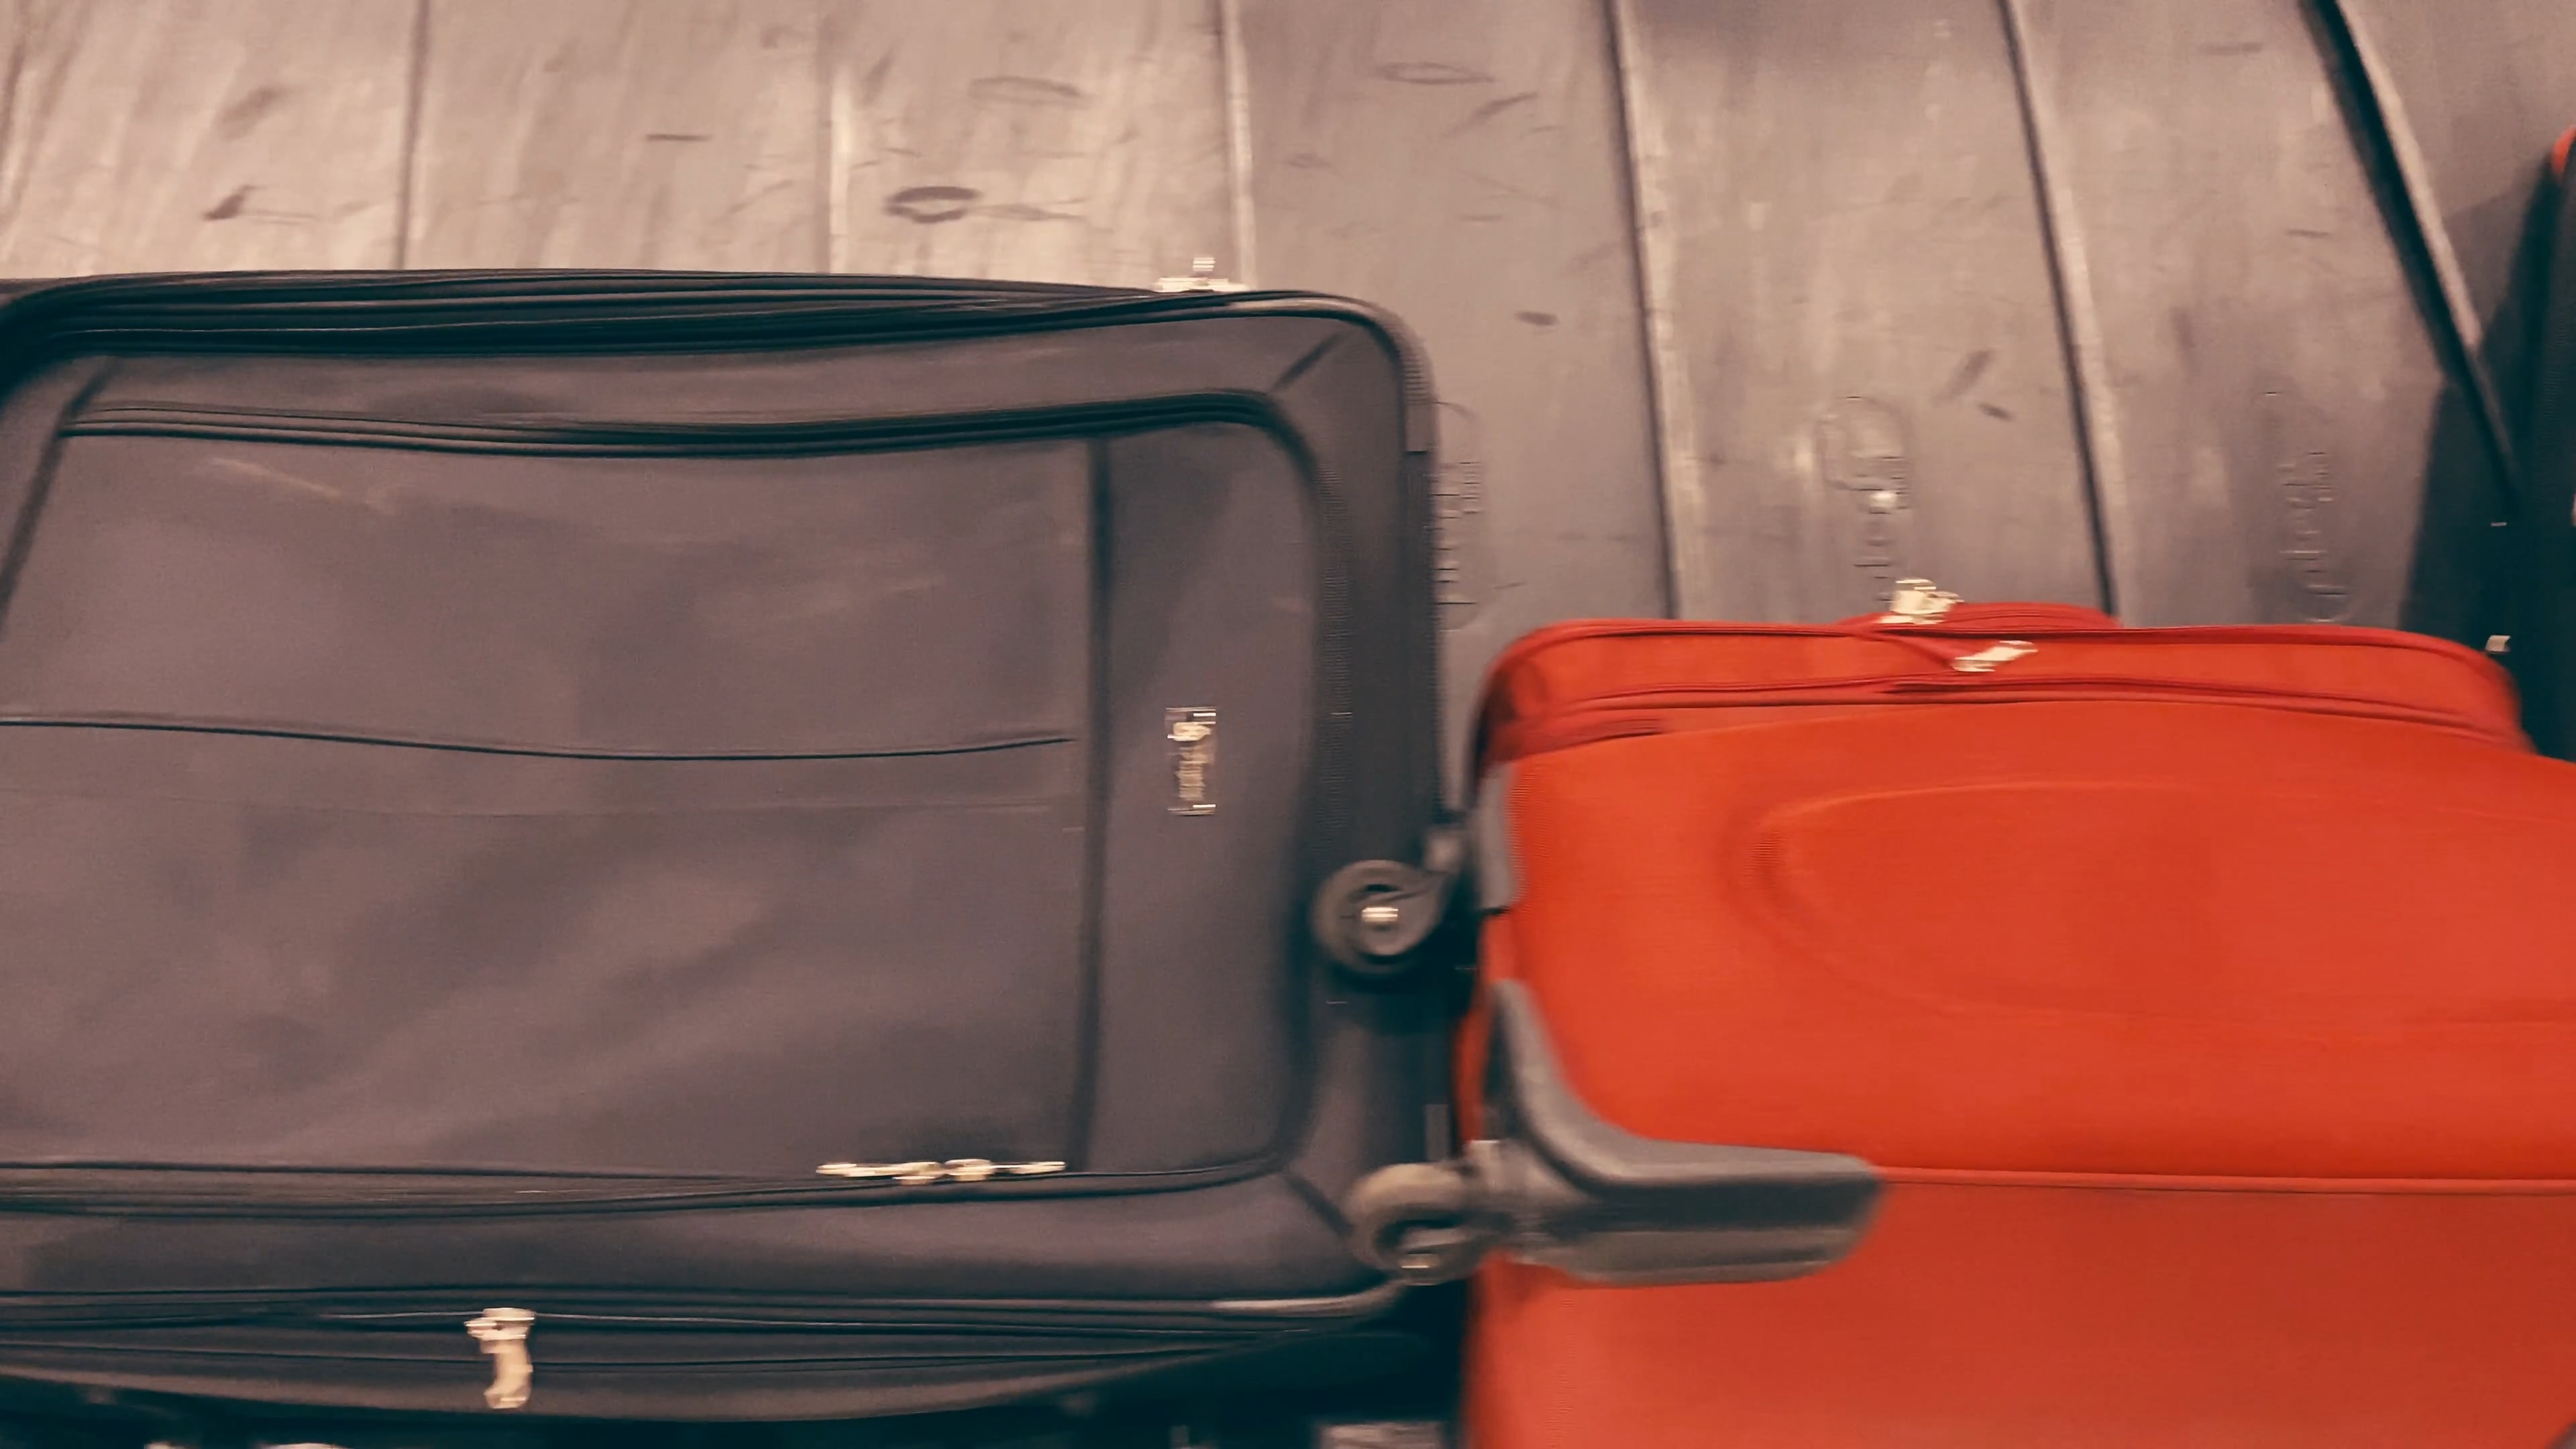baggage: (28, 218, 1465, 1449), (1302, 579, 2560, 1449)
